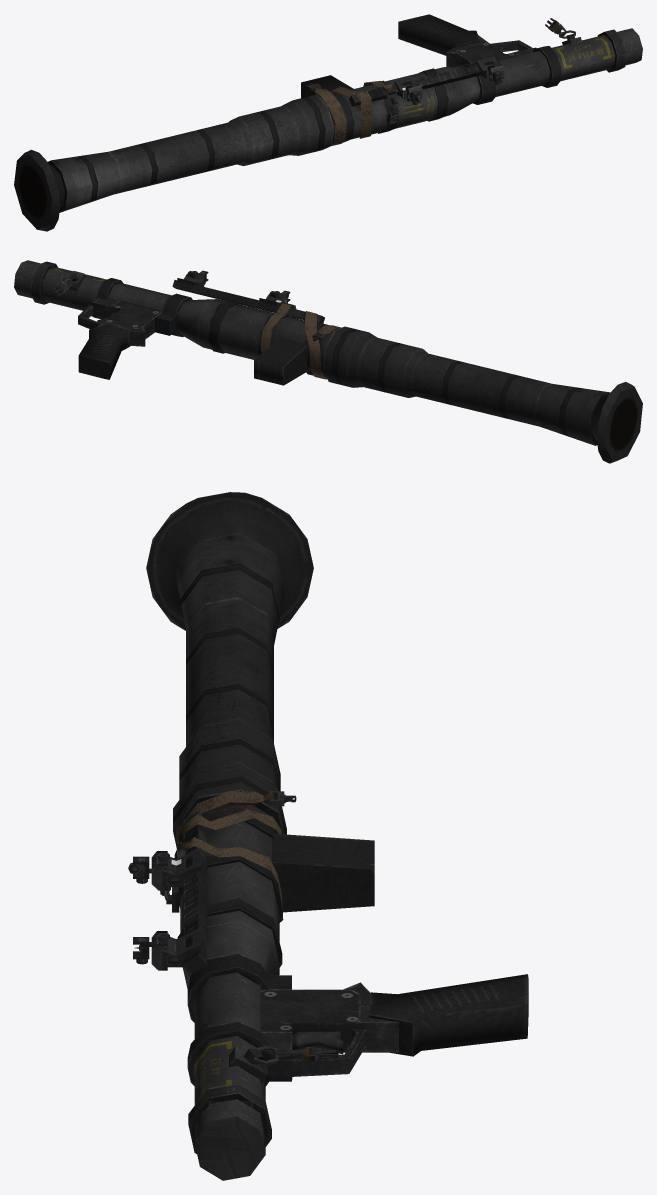
Rendered from t6_wpn_launch_usrpg_world_LOD0.obj.
3 views of the same model, one above another, from view 1: azimuth 30°, elevation 25°; view 2: azimuth 150°, elevation 25°; view 3: azimuth 270°, elevation 25° (orthographic). The views are drawn at different scales.
Parts seen in each view (by area): view 1: mtl_t6_wpn_launch_usrpg, mtl_t6_wpn_launch_usrpg_camo4, mtl_t6_wpn_launch_usrpg_camo2, mtl_t6_wpn_launch_usrpg_camo3; view 2: mtl_t6_wpn_launch_usrpg, mtl_t6_wpn_launch_usrpg_camo4, mtl_t6_wpn_launch_usrpg_camo2, mtl_t6_wpn_launch_usrpg_camo3; view 3: mtl_t6_wpn_launch_usrpg, mtl_t6_wpn_launch_usrpg_camo4, mtl_t6_wpn_launch_usrpg_camo2, mtl_t6_wpn_launch_usrpg_camo3.
Part boxes in pixels (x1,y1,x2,y2): mtl_t6_wpn_launch_usrpg: (48,28,642,212); mtl_t6_wpn_launch_usrpg_camo4: (14,14,566,231); mtl_t6_wpn_launch_usrpg_camo2: (332,29,626,142); mtl_t6_wpn_launch_usrpg_camo3: (389,30,575,119); mtl_t6_wpn_launch_usrpg: (14,260,610,445); mtl_t6_wpn_launch_usrpg_camo4: (52,270,642,463); mtl_t6_wpn_launch_usrpg_camo2: (30,261,328,375); mtl_t6_wpn_launch_usrpg_camo3: (63,271,279,331); mtl_t6_wpn_launch_usrpg: (134,532,398,1180); mtl_t6_wpn_launch_usrpg_camo4: (128,492,528,1061); mtl_t6_wpn_launch_usrpg_camo2: (177,806,291,1153); mtl_t6_wpn_launch_usrpg_camo3: (157,852,398,1076).
Bounding box in the file's own units: 90.69 × 10.96 × 26.16.
